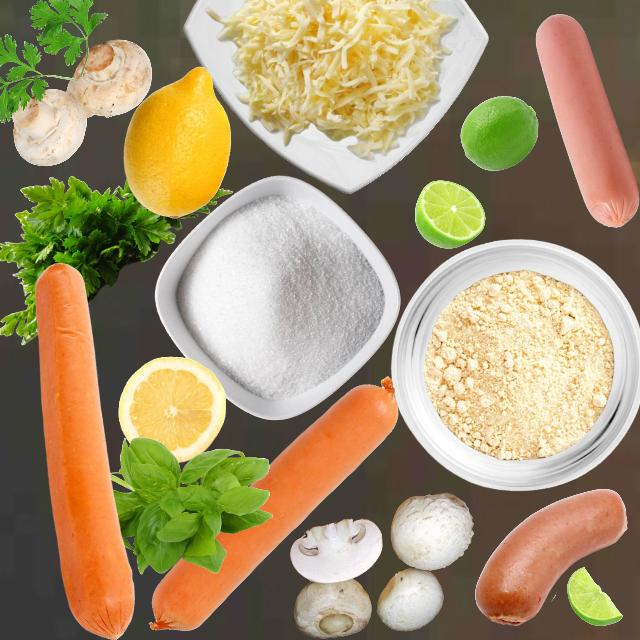Flour: (423, 269, 614, 460)
Sugar: (176, 193, 385, 400)
